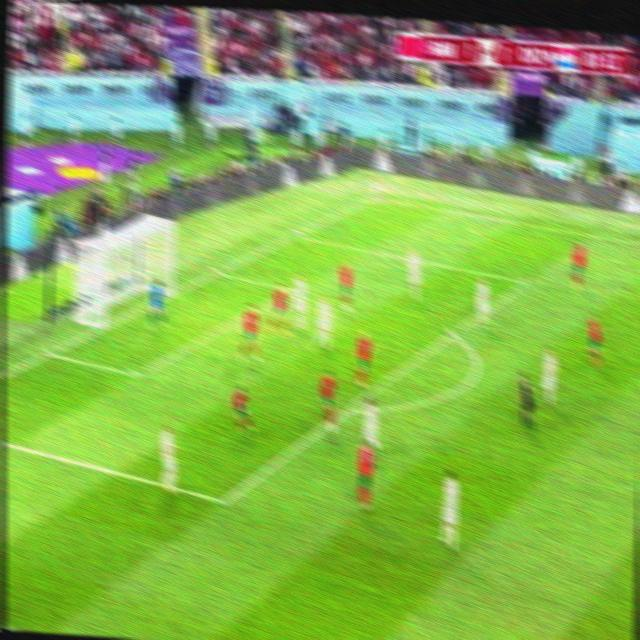bigarea_bottom_inner: (214, 488, 233, 511)
bigarea_top_inner: (517, 273, 531, 291)
bigarea_top_outter: (290, 229, 301, 242)
bottom_arc_area_intersection: (341, 401, 354, 416)
corner: (372, 193, 383, 203)
smallarea_bottom_inner: (128, 362, 147, 386)
smallarea_bottom_outter: (41, 344, 57, 361)
smallarea_top_inner: (285, 282, 298, 296)
smallarea_top_outter: (210, 265, 226, 280)
top_arc_area_intersection: (444, 325, 460, 342)
